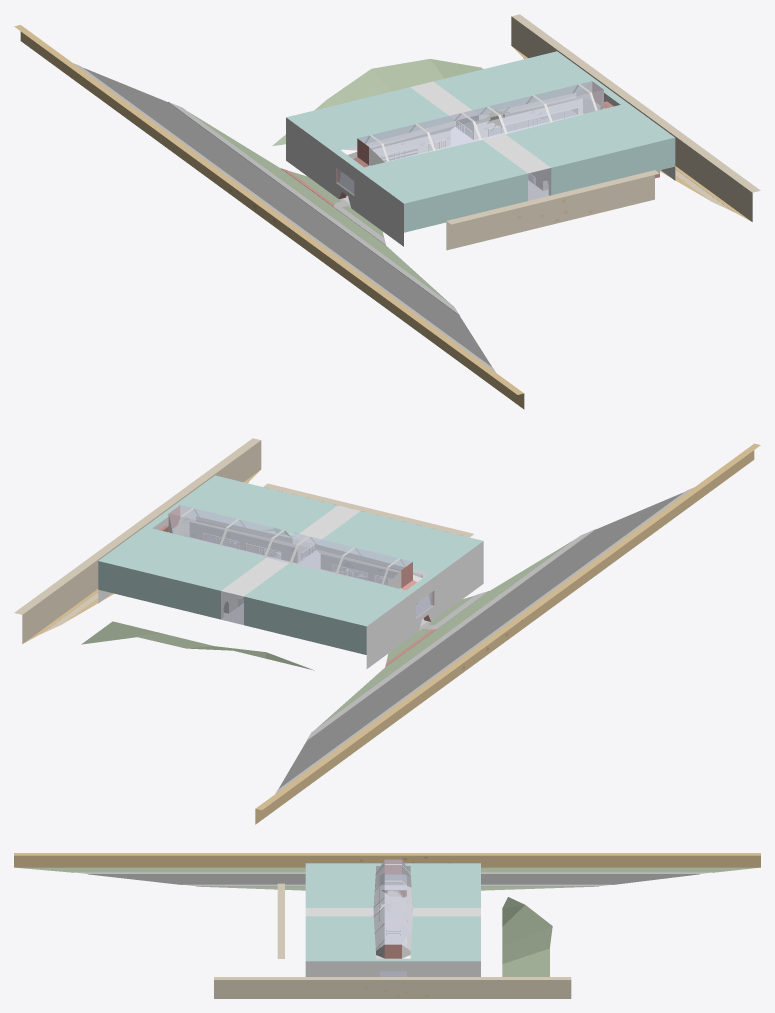
The model's file is ShoppingMall.fbx.
The picture shows the model from 3 angles, top to bottom: view 1: azimuth 30°, elevation 25°; view 2: azimuth 150°, elevation 25°; view 3: azimuth 270°, elevation 25°; orthographic projection. The views are drawn at different scales.
Parts seen in each view (by area): view 1: ShoppingMall; view 2: ShoppingMall; view 3: ShoppingMall.
Part boxes in pixels (x1,y1,x2,y2): ShoppingMall: (14,14,760,409); ShoppingMall: (14,438,760,824); ShoppingMall: (14,853,760,998).
Size of the model in its own units: 138 by 19.79 by 317.
